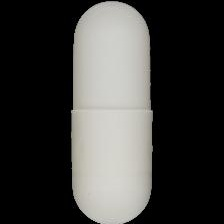52959-757: (0, 0, 224, 224)
